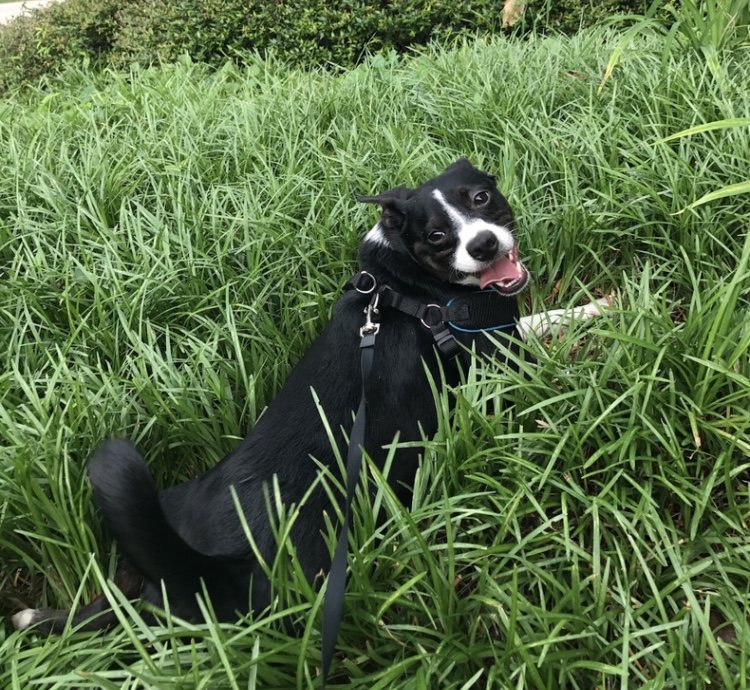Harley: (21, 149, 638, 640)
